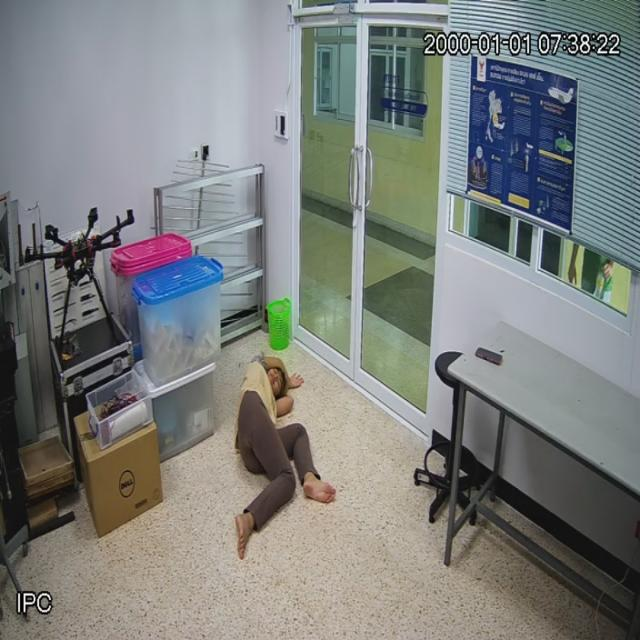fall: (236, 351, 333, 553)
